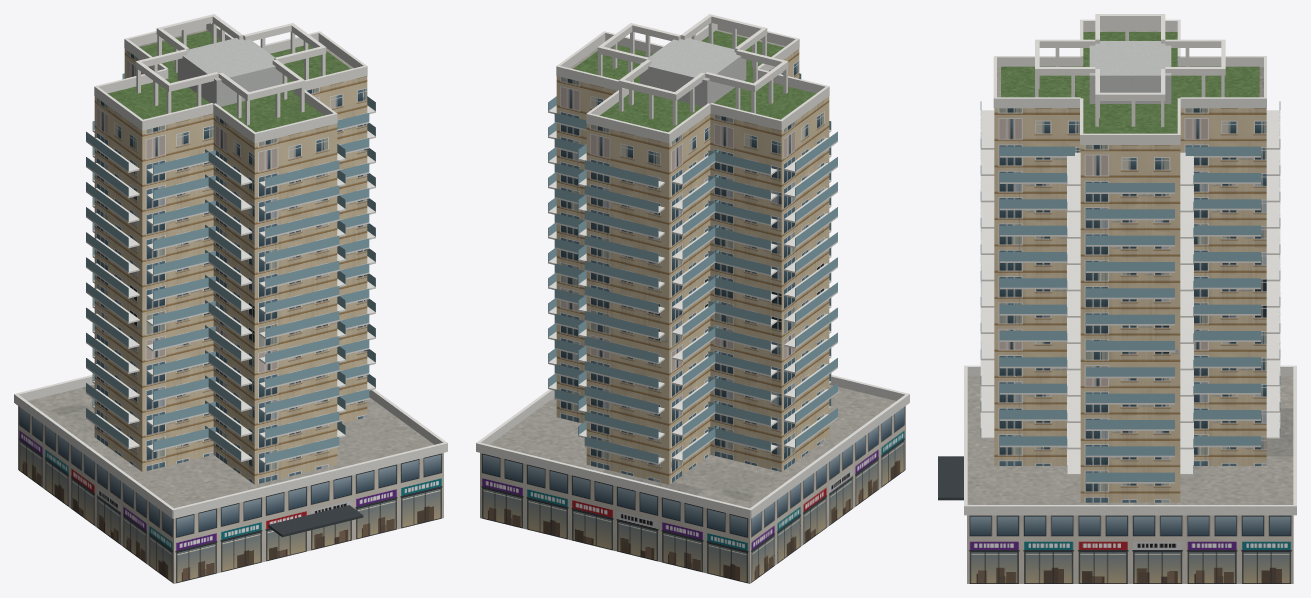
Rendered from OW_CaoOc_CH_ChuThap_52.fbx.
3 views of the same model, side by side, from view 1: azimuth 30°, elevation 25°; view 2: azimuth 150°, elevation 25°; view 3: azimuth 270°, elevation 25° (orthographic). The views are drawn at different scales.
Visible parts, largest first — view 1: OW_CaoOc_CH_ChuThap_52_LOD0; view 2: OW_CaoOc_CH_ChuThap_52_LOD0; view 3: OW_CaoOc_CH_ChuThap_52_LOD0.
Part boxes in pixels (x1,y1,x2,y2): OW_CaoOc_CH_ChuThap_52_LOD0: (14,14,447,583); OW_CaoOc_CH_ChuThap_52_LOD0: (476,14,909,583); OW_CaoOc_CH_ChuThap_52_LOD0: (938,14,1296,583).
Size of what is drawn, in the model's own units: 36.7 by 56 by 39.55.
